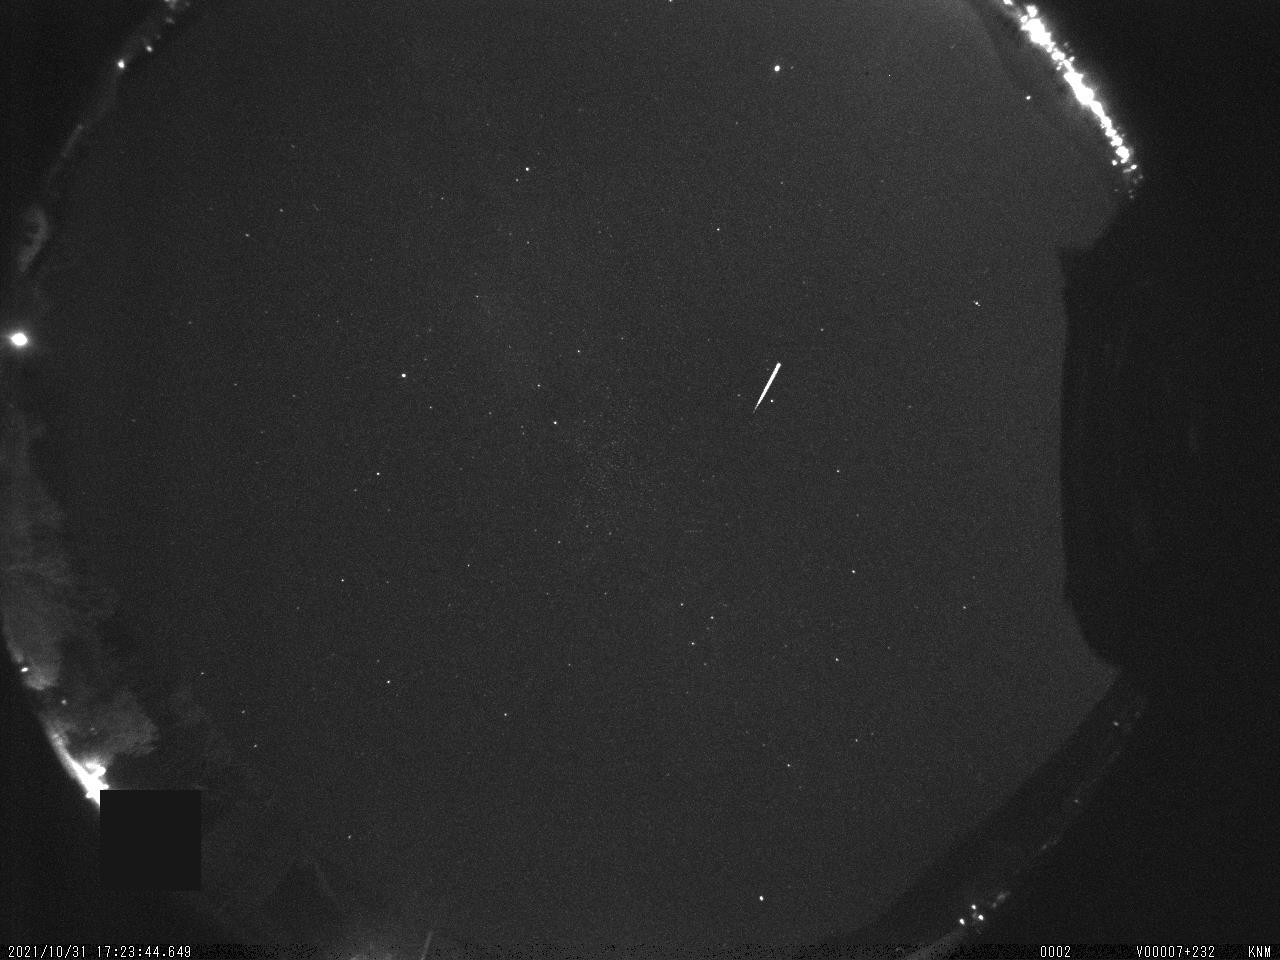meteor: (739, 356, 788, 416)
